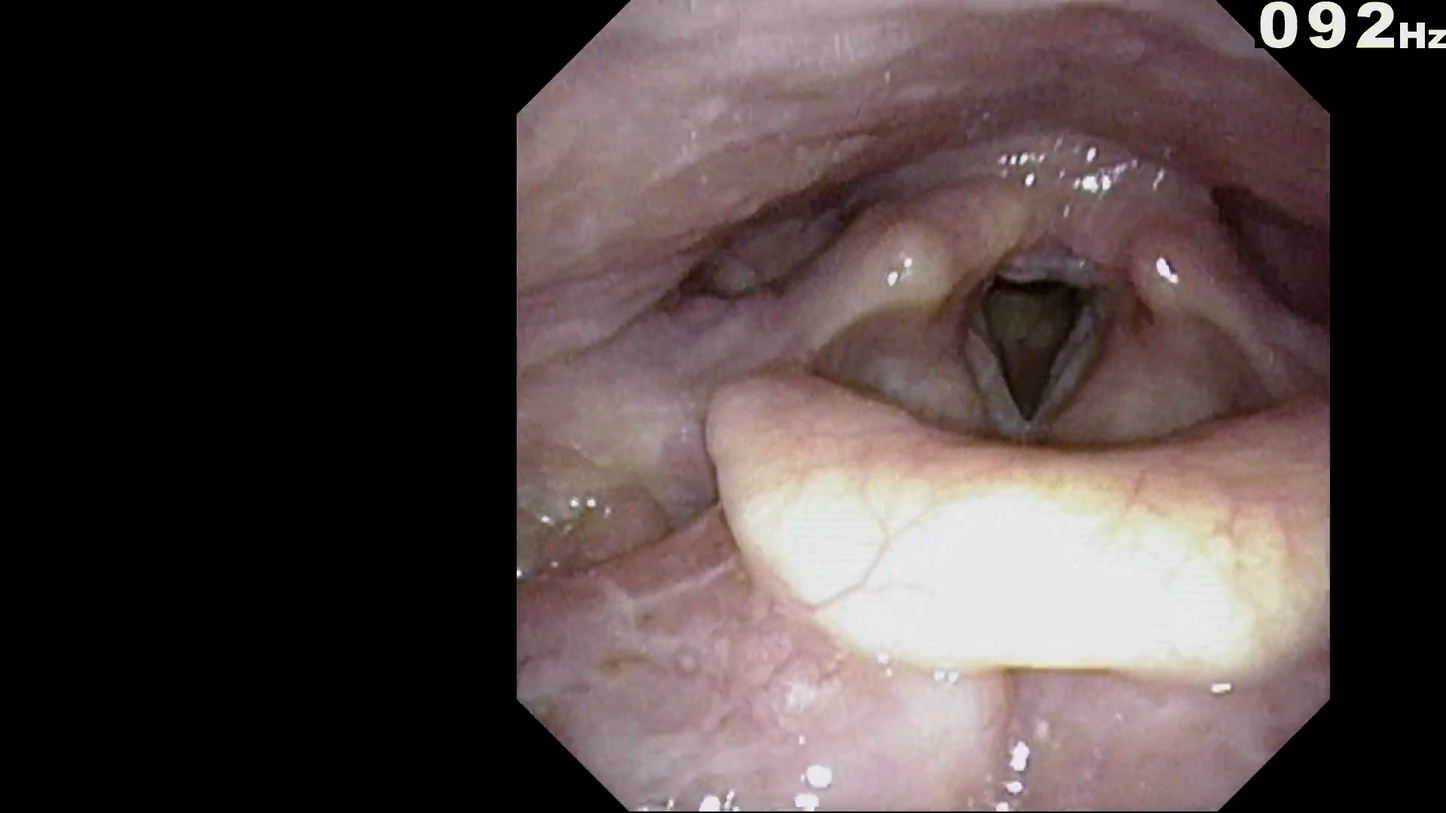epiglottis: (696, 365, 1318, 666)
trachea: (943, 259, 1123, 470)
